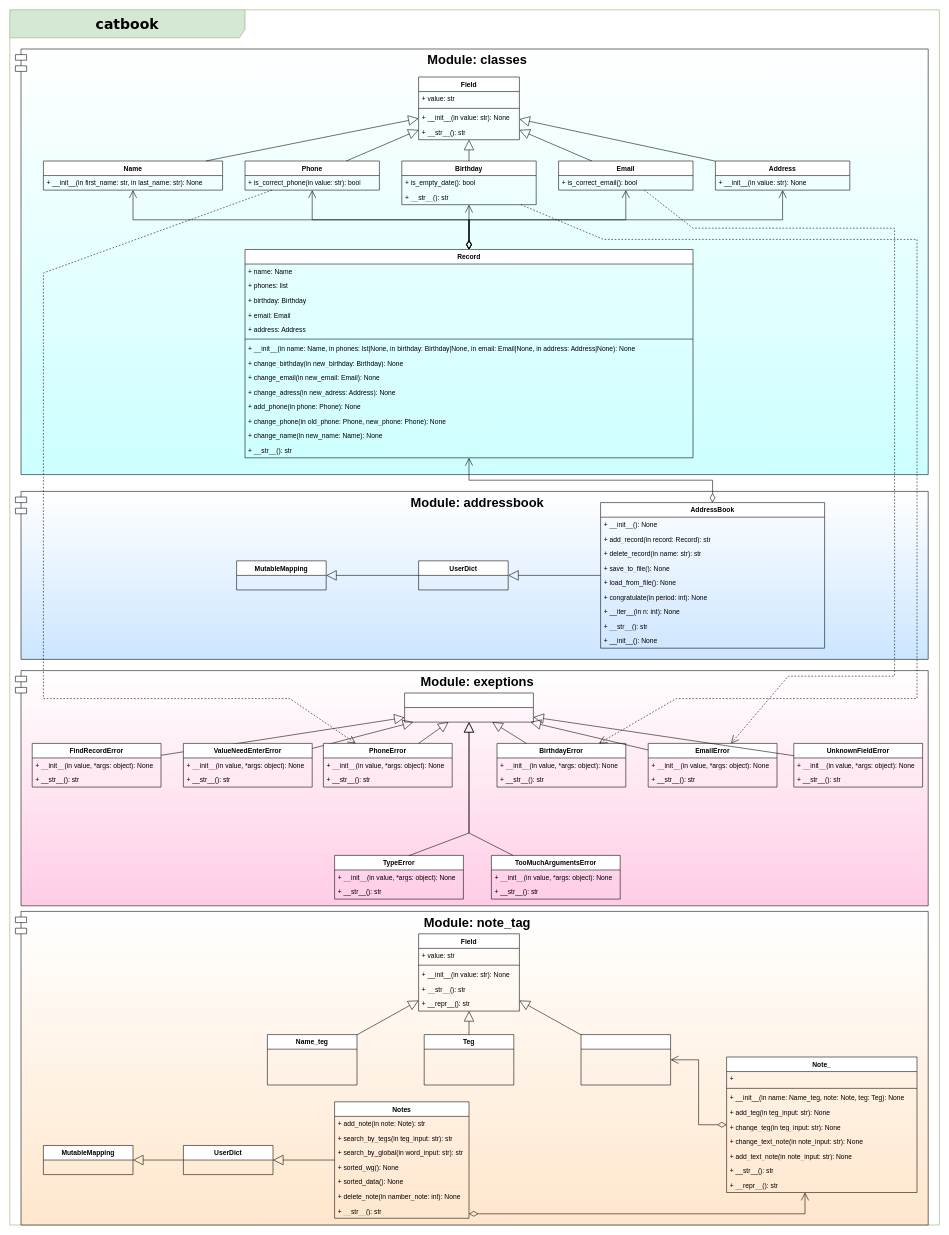
This 949x1235 diagram has some shape labels left out. The centre of each missing label's shape, as x and y in pixels:
"Exception" goes at point 468,707.
"Note" goes at point 625,1059.
